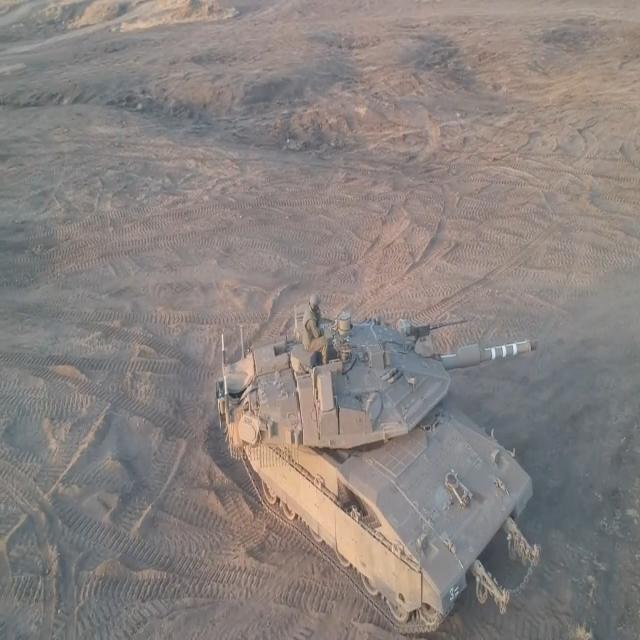tank: (207, 300, 545, 629)
